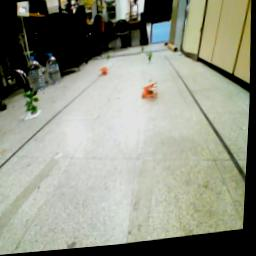herb: (24, 85, 42, 122), (147, 54, 155, 68)
wild: (141, 85, 161, 103), (100, 69, 110, 80)
